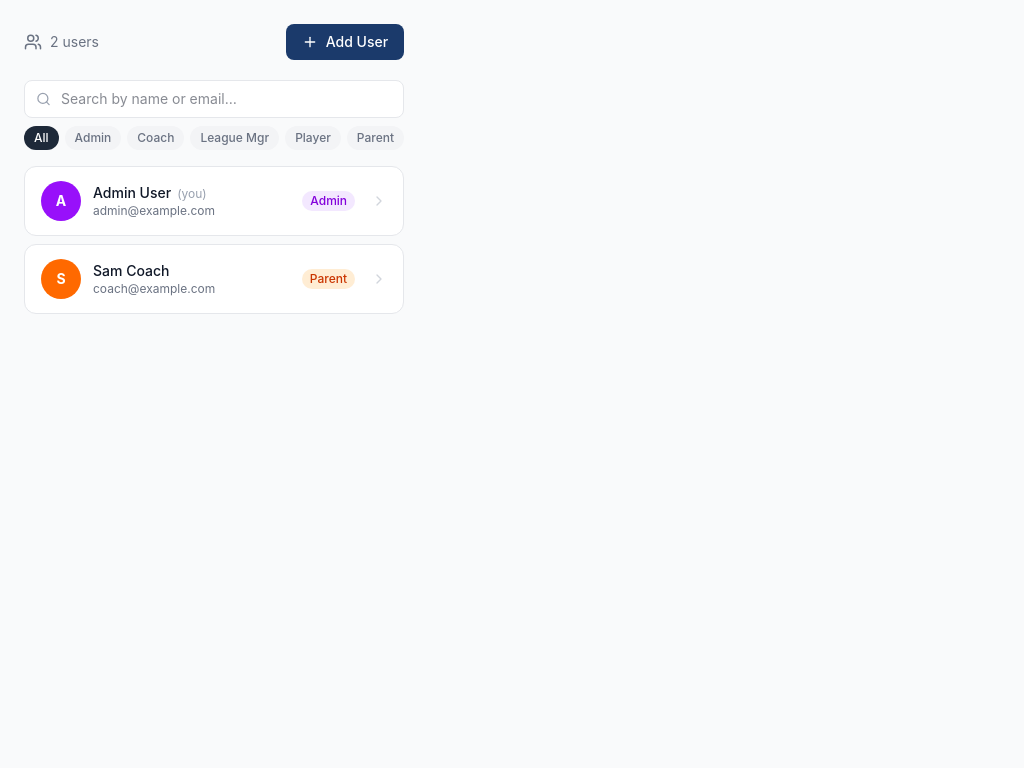
Scenario: UsersPage — syncLegacyScalars: playerId written to scalar field › writes playerId from the primary parent membership to the Firestore patch
expect the text "Sam Coach" is shown: met, box [93, 262, 170, 279]
What coordinates should you click on to do the following:
click the button "S Sam Coach coach@example.com Parent"
I would click on:
 (214, 279)
Its box is [24, 244, 404, 314].
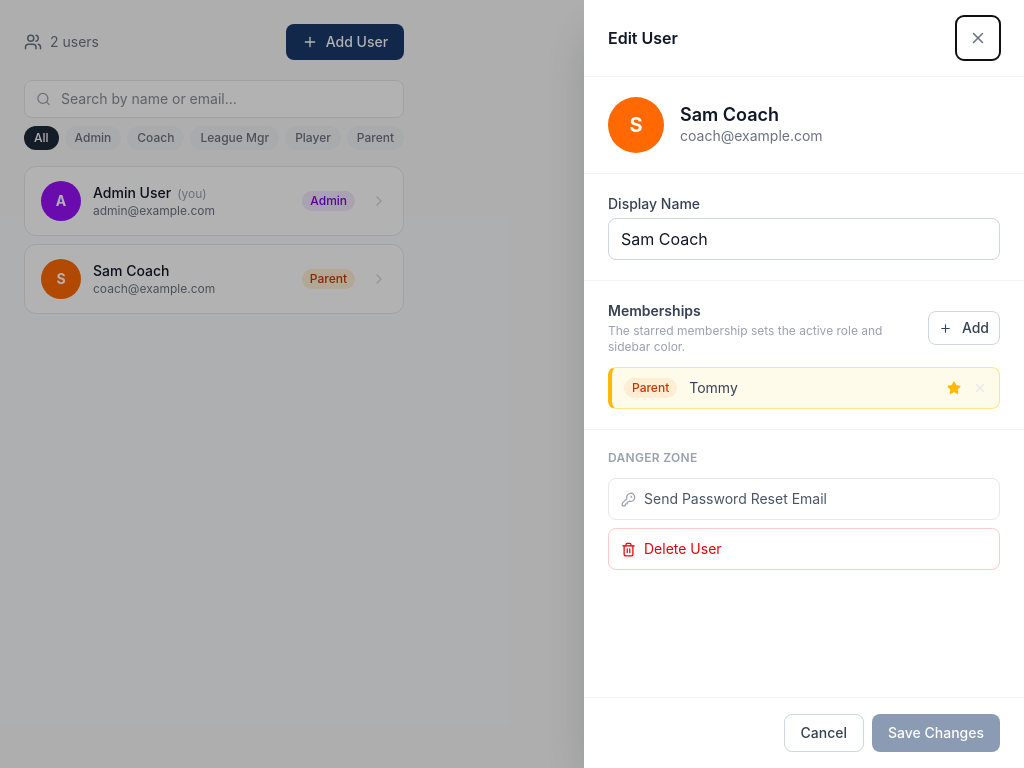
expect the dialog is shown: met, box [584, 0, 1023, 767]
